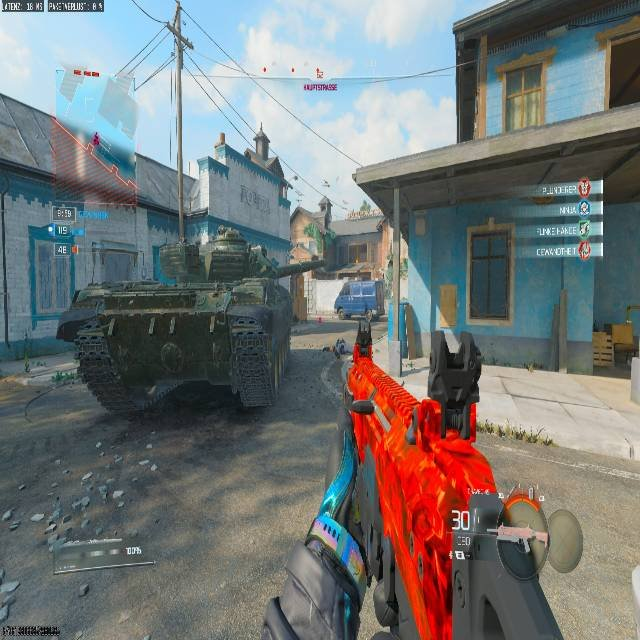player: (334, 338, 346, 358)
